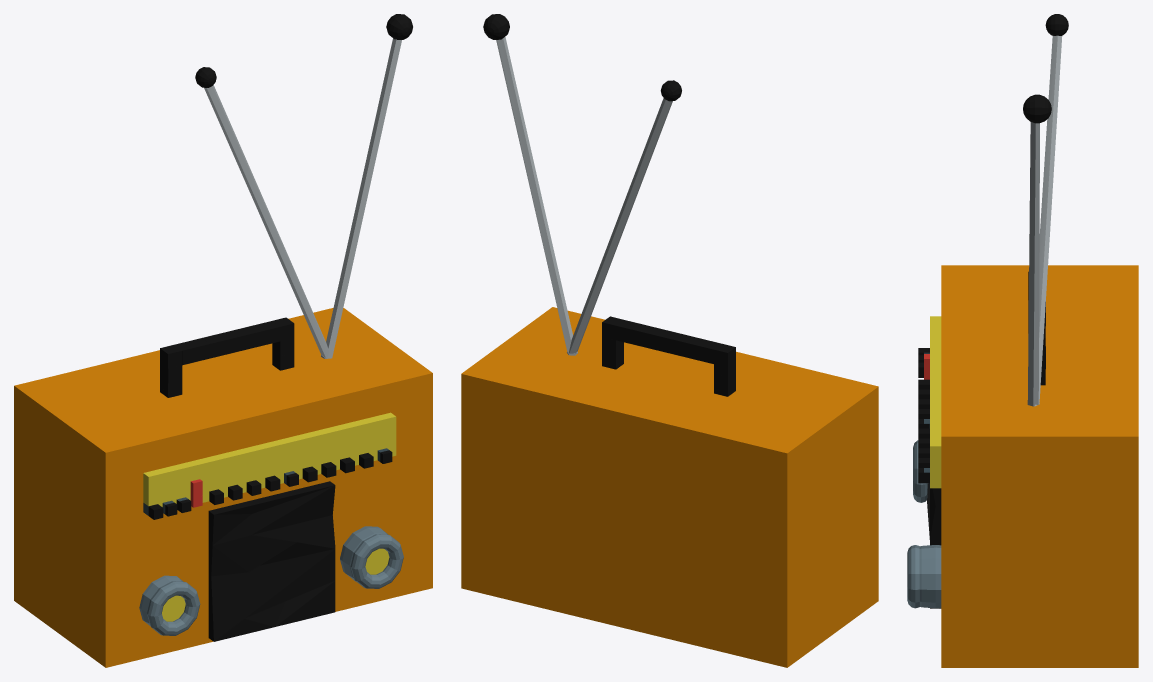
Rendered from radio.gltf.
The picture shows the model from 3 angles, left to right: view 1: azimuth 30°, elevation 25°; view 2: azimuth 150°, elevation 25°; view 3: azimuth 270°, elevation 25°; orthographic projection. The views are drawn at different scales.
Visible parts, largest first — view 1: node_MeshObject-1057582016-PolyPaper12; view 2: node_MeshObject-1057582016-PolyPaper12; view 3: node_MeshObject-1057582016-PolyPaper12.
Boxes of the visible parts, box(x1,y1,x2,y2) form: node_MeshObject-1057582016-PolyPaper12: box(14, 14, 432, 667); node_MeshObject-1057582016-PolyPaper12: box(461, 14, 878, 667); node_MeshObject-1057582016-PolyPaper12: box(907, 14, 1138, 667).
Bounding box in the file's own units: 0.7492 × 1.1 × 0.3987.
